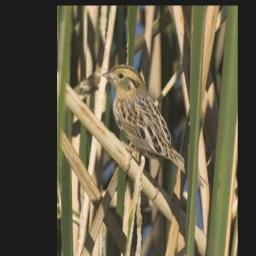Sparrow: (99, 62, 209, 190)
